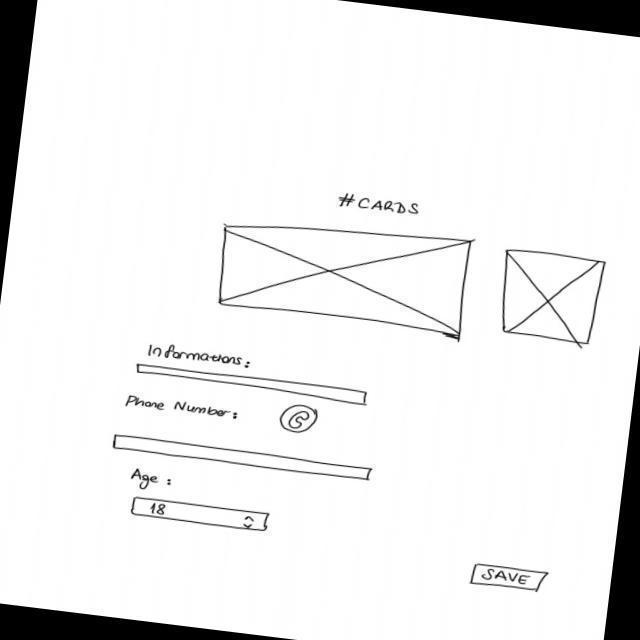button: (467, 563, 551, 596)
icon-button: (279, 402, 321, 437)
image: (215, 210, 475, 337), (496, 248, 608, 348)
input: (112, 433, 376, 484), (134, 362, 373, 408)
label: (146, 341, 256, 372), (124, 394, 241, 423), (337, 191, 423, 220), (128, 467, 175, 494)
number-input: (129, 496, 273, 535)
